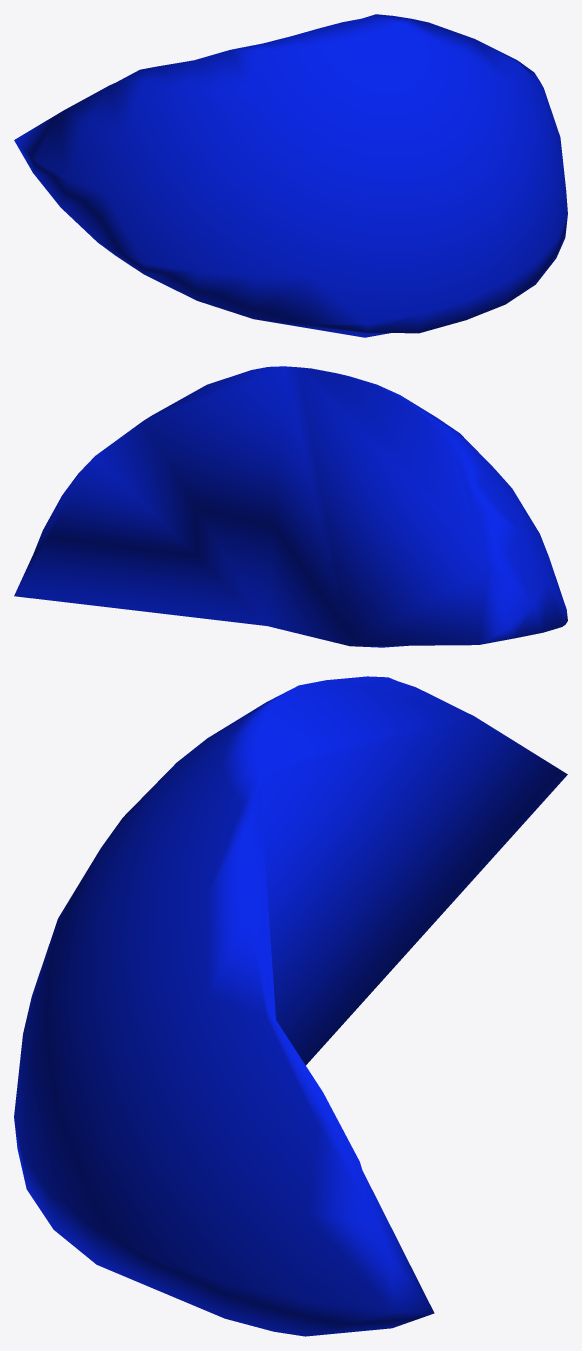
File: Orbe_PlayStation_F1.fbx
The picture shows the model from 3 angles, top to bottom: view 1: azimuth 30°, elevation 25°; view 2: azimuth 150°, elevation 25°; view 3: azimuth 270°, elevation 25°; orthographic projection. The views are drawn at different scales.
Parts seen in each view (by area): view 1: Orbe_PlayStation_F1; view 2: Orbe_PlayStation_F1; view 3: Orbe_PlayStation_F1.
Part boxes in pixels (x1,y1,x2,y2): Orbe_PlayStation_F1: (14, 14, 567, 337); Orbe_PlayStation_F1: (14, 366, 567, 647); Orbe_PlayStation_F1: (14, 676, 567, 1336).
Bounding box in the file's own units: 193 × 107 × 118.
